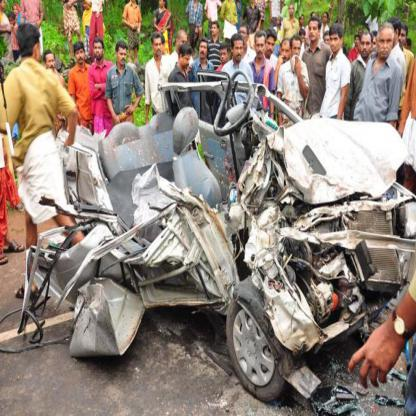face: (379, 32, 393, 58), (33, 40, 42, 64), (235, 41, 245, 62), (256, 39, 266, 60), (361, 38, 371, 58), (387, 25, 397, 45), (267, 37, 276, 58), (309, 24, 319, 42), (397, 29, 407, 47), (293, 42, 302, 61), (119, 47, 128, 65), (180, 35, 189, 53), (282, 44, 291, 62), (95, 43, 104, 60), (154, 39, 163, 56), (331, 36, 340, 53), (369, 36, 378, 53), (46, 56, 56, 71), (240, 28, 248, 46), (76, 50, 85, 64), (200, 43, 208, 58), (184, 53, 191, 69), (221, 50, 229, 64), (325, 36, 331, 48), (212, 26, 218, 36), (10, 18, 16, 27), (355, 38, 360, 48), (14, 7, 19, 16), (2, 1, 7, 10), (302, 35, 306, 44), (291, 7, 295, 15), (301, 17, 305, 25), (324, 15, 328, 23), (160, 1, 165, 7), (359, 31, 363, 37), (278, 19, 281, 25), (313, 15, 316, 20)
